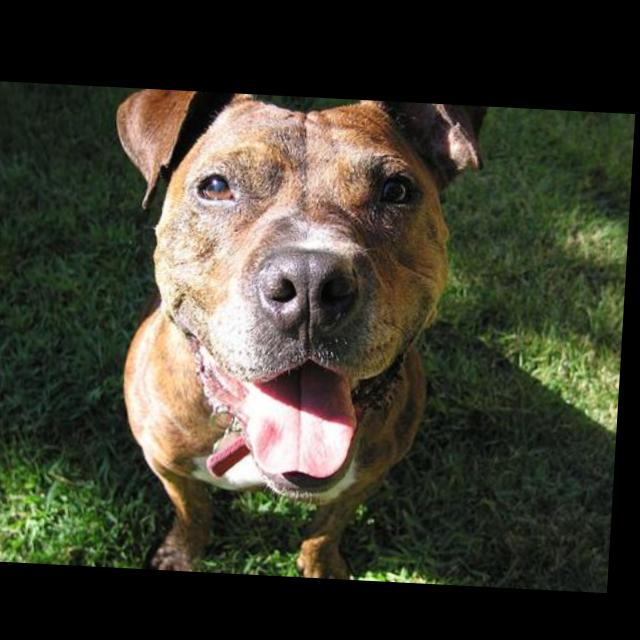amstaff: (96, 86, 494, 581)
